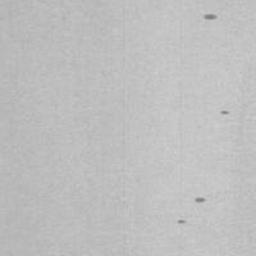Inclusion: (202, 14, 218, 22), (193, 197, 206, 205), (175, 219, 187, 225), (219, 110, 230, 115)
